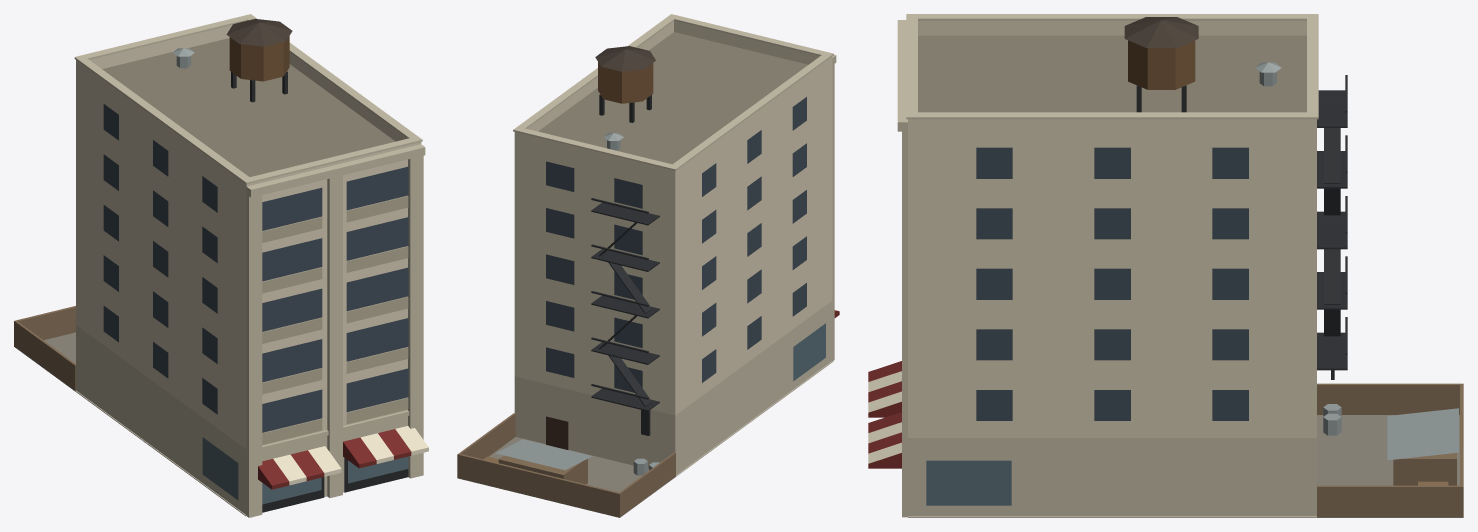
The model's file is shop_wu.glb.
3 renders of one model, left to right at view 1: azimuth 30°, elevation 25°; view 2: azimuth 150°, elevation 25°; view 3: azimuth 270°, elevation 25°, orthographic. The views are drawn at different scales.
Visible parts, largest first — view 1: shop_wu; view 2: shop_wu; view 3: shop_wu.
Part boxes in pixels (x1,y1,x2,y2): shop_wu: [14, 14, 428, 517]; shop_wu: [457, 14, 839, 517]; shop_wu: [868, 14, 1463, 517].
Bounding box in the file's own units: 18 × 37.78 × 43.88.
